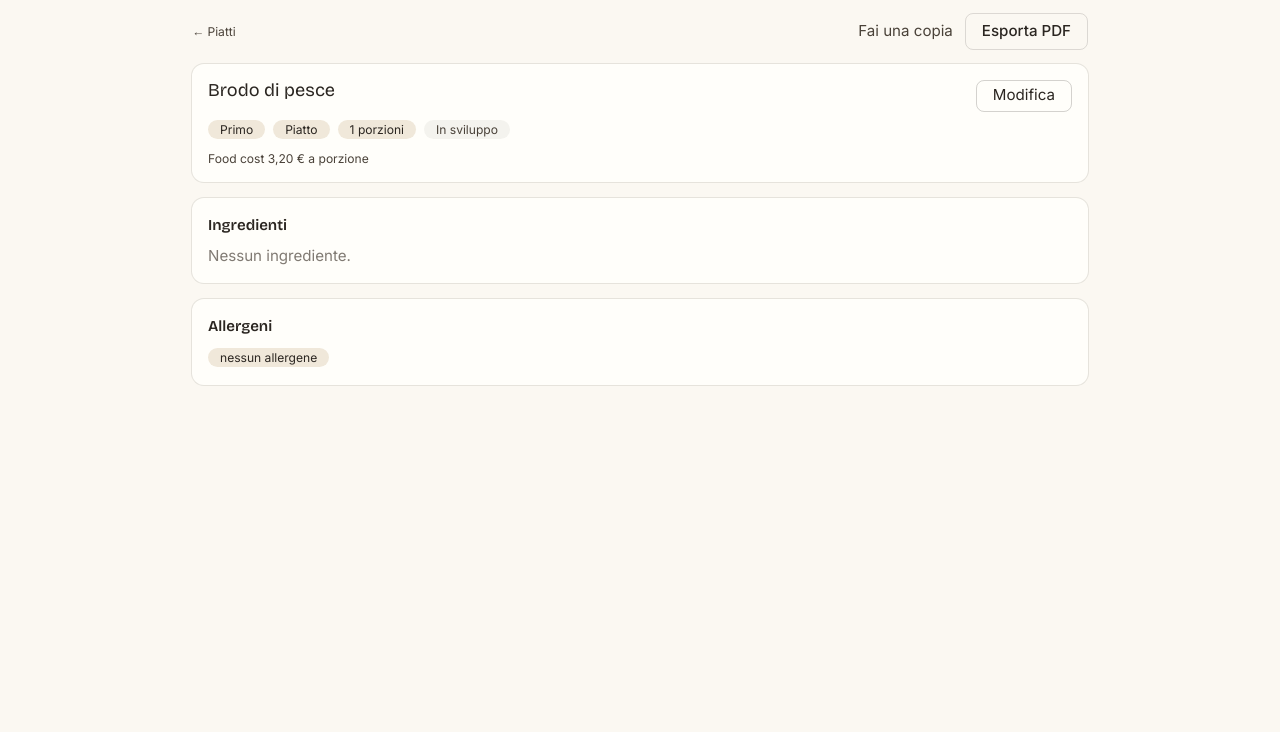
it: 🔴 il costo di una preparazione si legge per unità di resa › un piatto resta a porzione
The width and height of the screenshot is (1280, 732).
Click the button "Modifica": (1024, 96) [976, 80, 1072, 112]
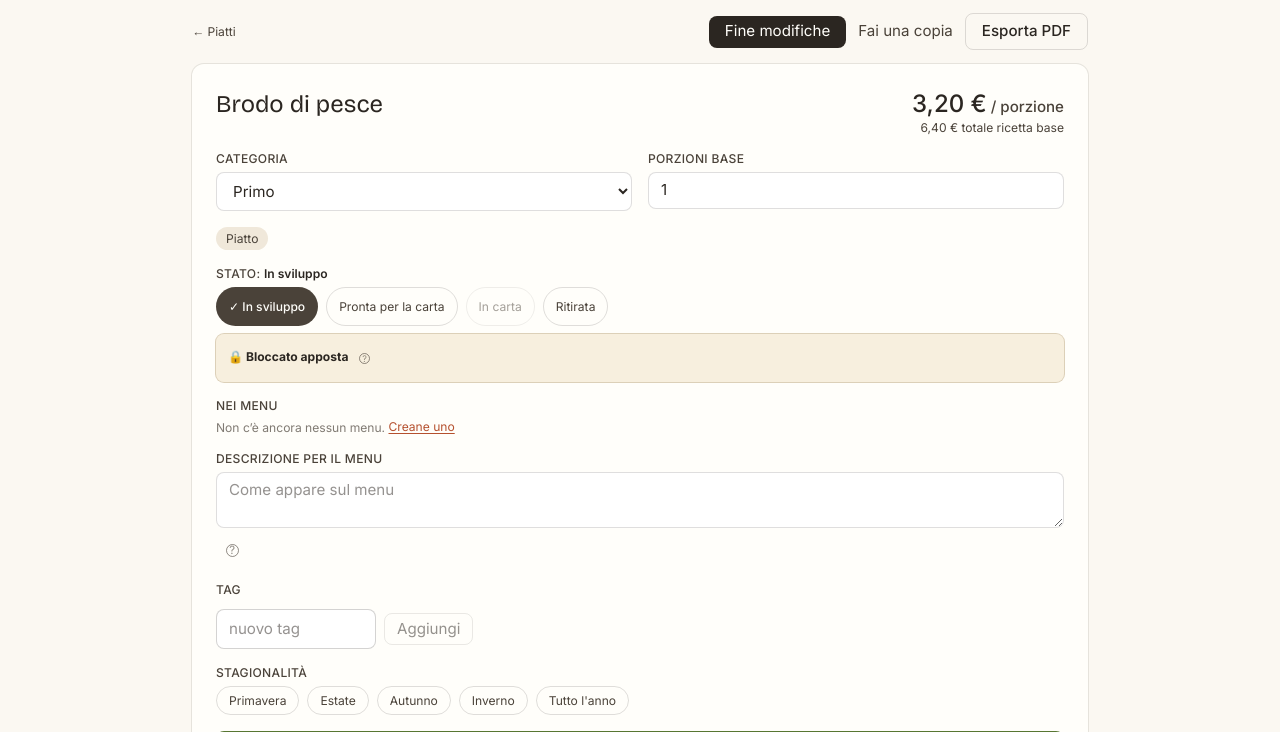
Expected: the text "Stato: In sviluppo" is shown, [216, 266, 328, 281]
Expected: the text "/ porzione" is shown, [987, 97, 1064, 116]
